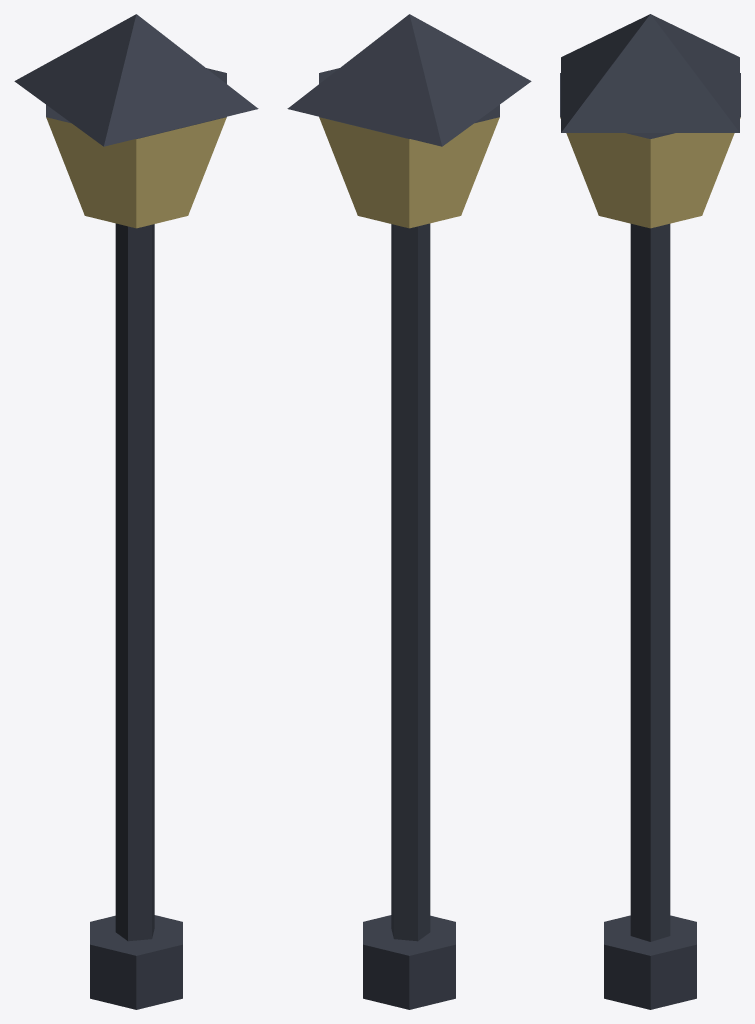
File: prop_street_lamp.glb
3 views of the same model, side by side, from view 1: azimuth 30°, elevation 25°; view 2: azimuth 150°, elevation 25°; view 3: azimuth 270°, elevation 25° (orthographic).
Visible parts, largest first — view 1: prop_street_lamp; view 2: prop_street_lamp; view 3: prop_street_lamp.
Boxes of the visible parts, <box> form: prop_street_lamp: <box>14,14,258,1009</box>; prop_street_lamp: <box>287,14,531,1009</box>; prop_street_lamp: <box>560,14,740,1009</box>.
Bounding box in the file's own units: 0.07 × 0.36 × 0.0606.
